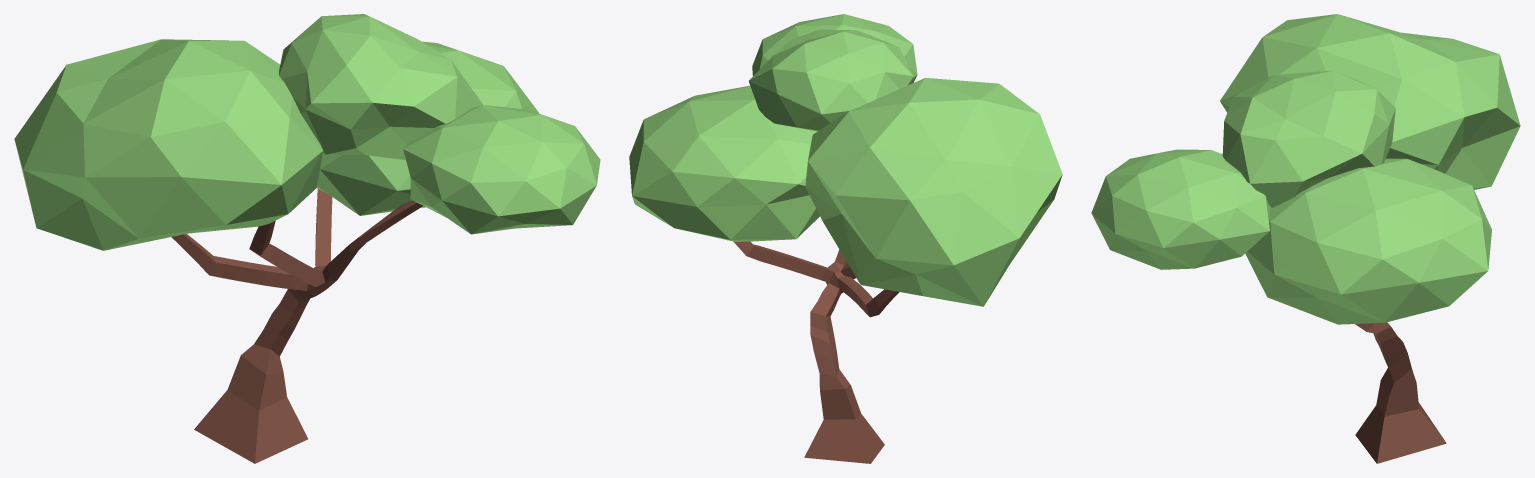
File: Arvore2.fbx
3 renders of one model, left to right at view 1: azimuth 30°, elevation 25°; view 2: azimuth 150°, elevation 25°; view 3: azimuth 270°, elevation 25°, orthographic. The views are drawn at different scales.
Parts seen in each view (by area): view 1: Icosphere.002; view 2: Icosphere.002; view 3: Icosphere.002.
Boxes of the visible parts, box(x1,y1,x2,y2) form: Icosphere.002: box(14, 14, 600, 463); Icosphere.002: box(629, 14, 1062, 463); Icosphere.002: box(1091, 14, 1520, 463).
Bounding box in the file's own units: 408 × 360 × 357.
Materials: 1 (1 with a texture image).
